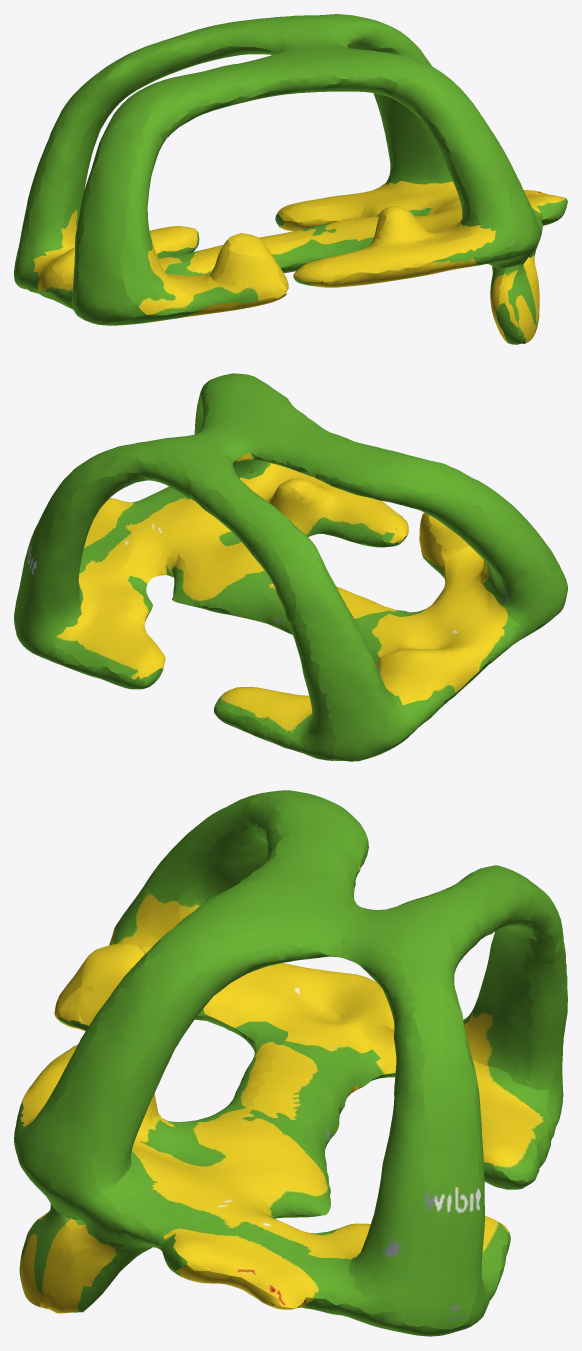
The model's file is matchballarena.glb.
3 renders of one model, top to bottom at view 1: azimuth 30°, elevation 25°; view 2: azimuth 150°, elevation 25°; view 3: azimuth 270°, elevation 25°, orthographic. The views are drawn at different scales.
Parts seen in each view (by area): view 1: geometry_0; view 2: geometry_0; view 3: geometry_0.
Part boxes in pixels (x1,y1,x2,y2): geometry_0: (14, 14, 567, 344); geometry_0: (14, 373, 567, 761); geometry_0: (14, 790, 567, 1336).
Bounding box in the file's own units: 1.02 × 0.481 × 0.7166.
Materials: 1 (1 with a texture image).
